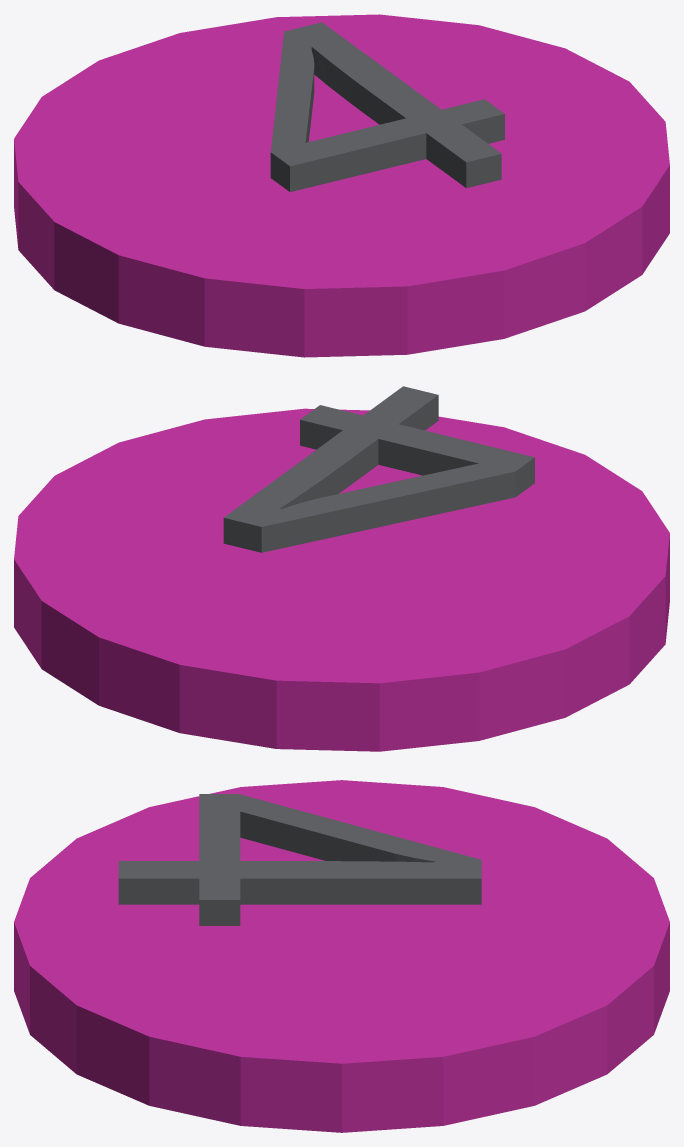
Rendered from 4pink.gltf.
3 views of the same model, one above another, from view 1: azimuth 30°, elevation 25°; view 2: azimuth 150°, elevation 25°; view 3: azimuth 270°, elevation 25° (orthographic).
Visible parts, largest first — view 1: Mesh_Mesh_head_geo001_lambert2SG001; view 2: Mesh_Mesh_head_geo001_lambert2SG001; view 3: Mesh_Mesh_head_geo001_lambert2SG001.
Boxes of the visible parts, x1=… form: Mesh_Mesh_head_geo001_lambert2SG001: x1=14, y1=14, x2=669, y2=357; Mesh_Mesh_head_geo001_lambert2SG001: x1=14, y1=386, x2=669, y2=751; Mesh_Mesh_head_geo001_lambert2SG001: x1=14, y1=780, x2=669, y2=1132.
Bounding box in the file's own units: 176 × 39.56 × 172.
